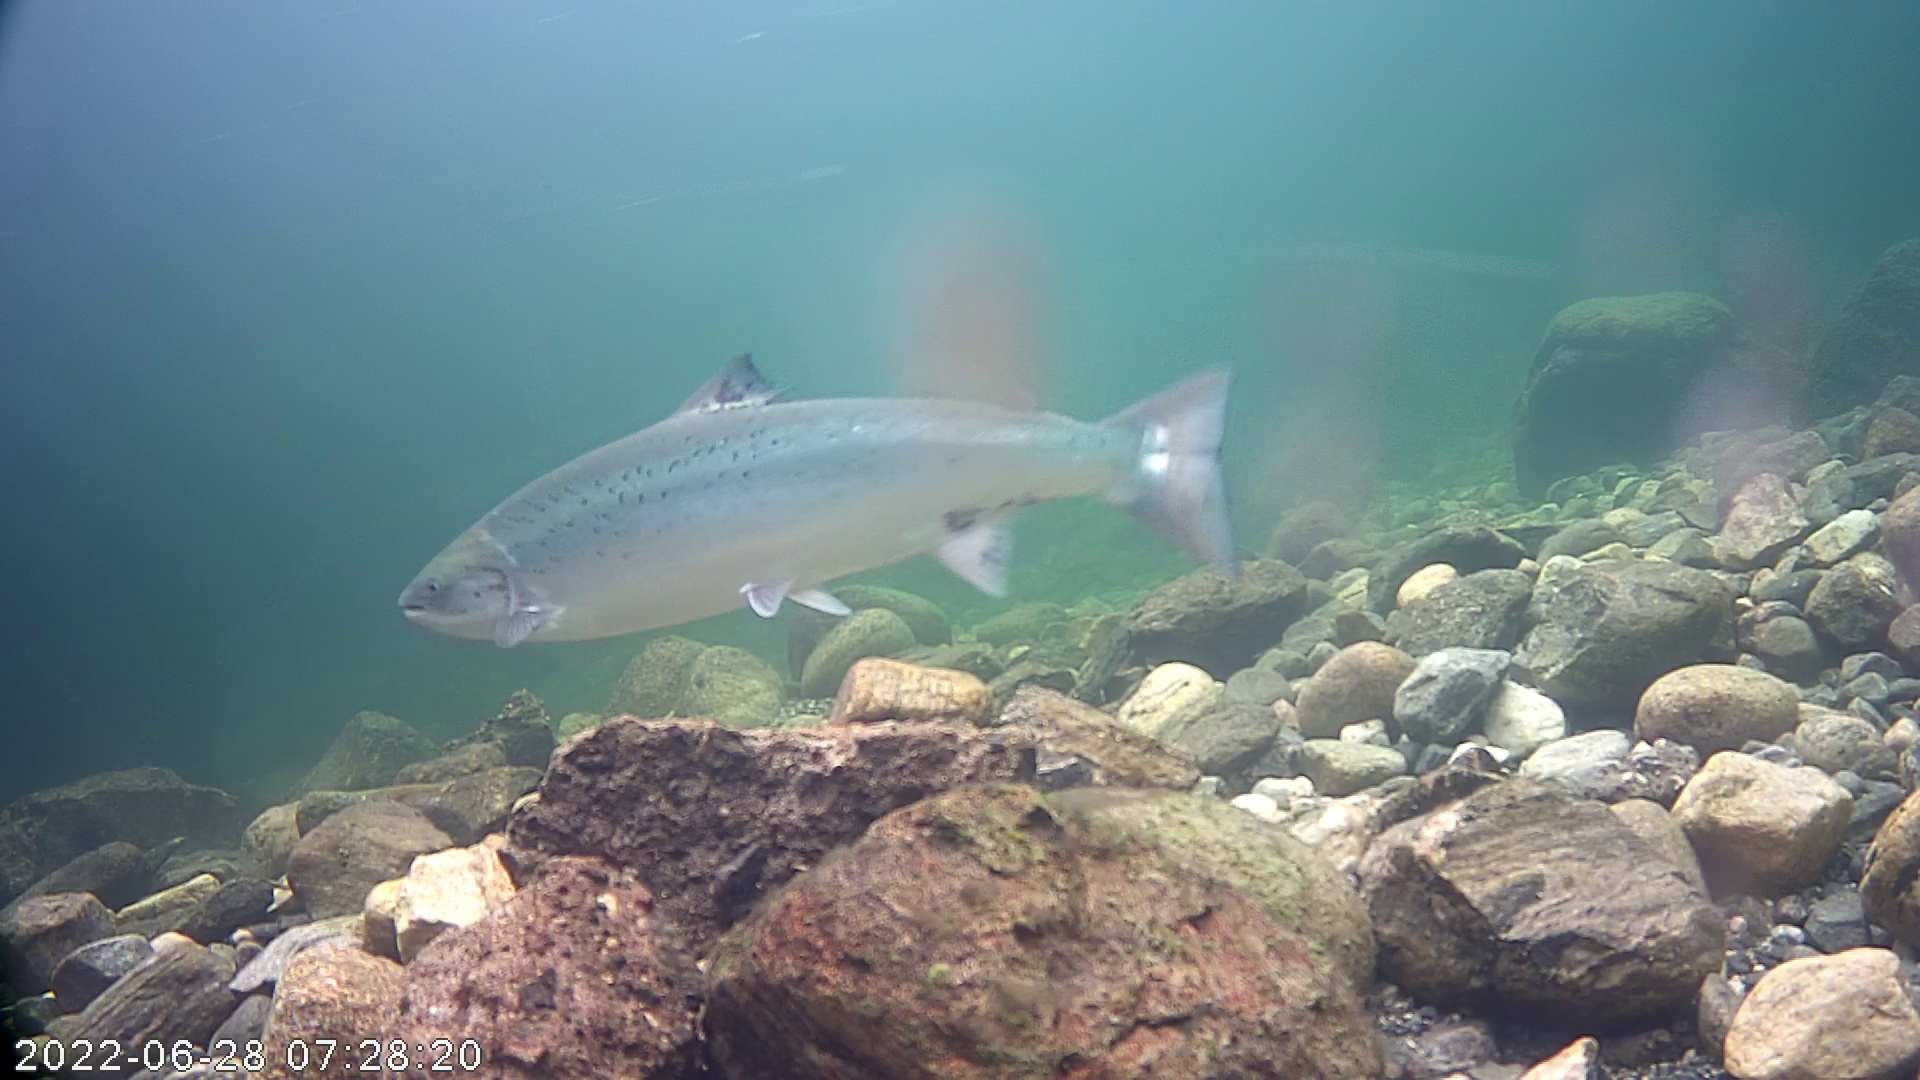salmon: (390, 237, 1269, 694)
